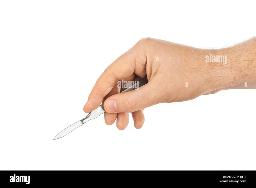scalpel: (52, 75, 148, 141)
